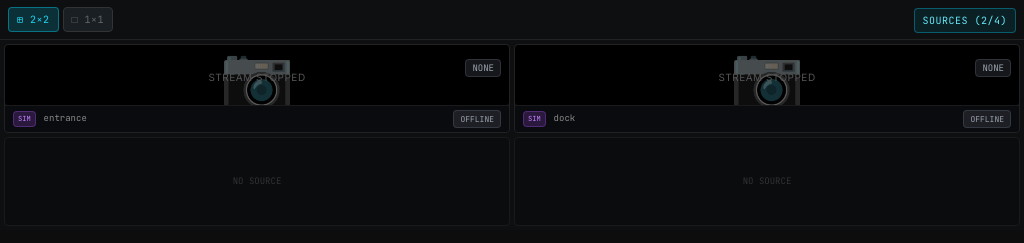
Test case: CameraWallModule › enters focus mode on tile click
This screenshot has width=1024, height=243.
Click the button with test id "camera-tile-sim.entrance" at [257, 88], box [4,44,510,133]
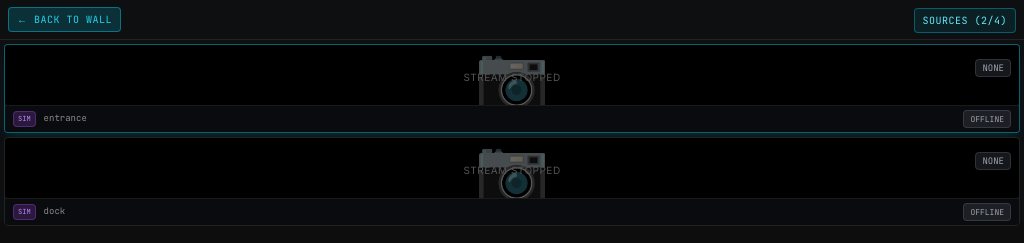
Check: the button "← Back to wall" is shown, box [8,7,121,32]
